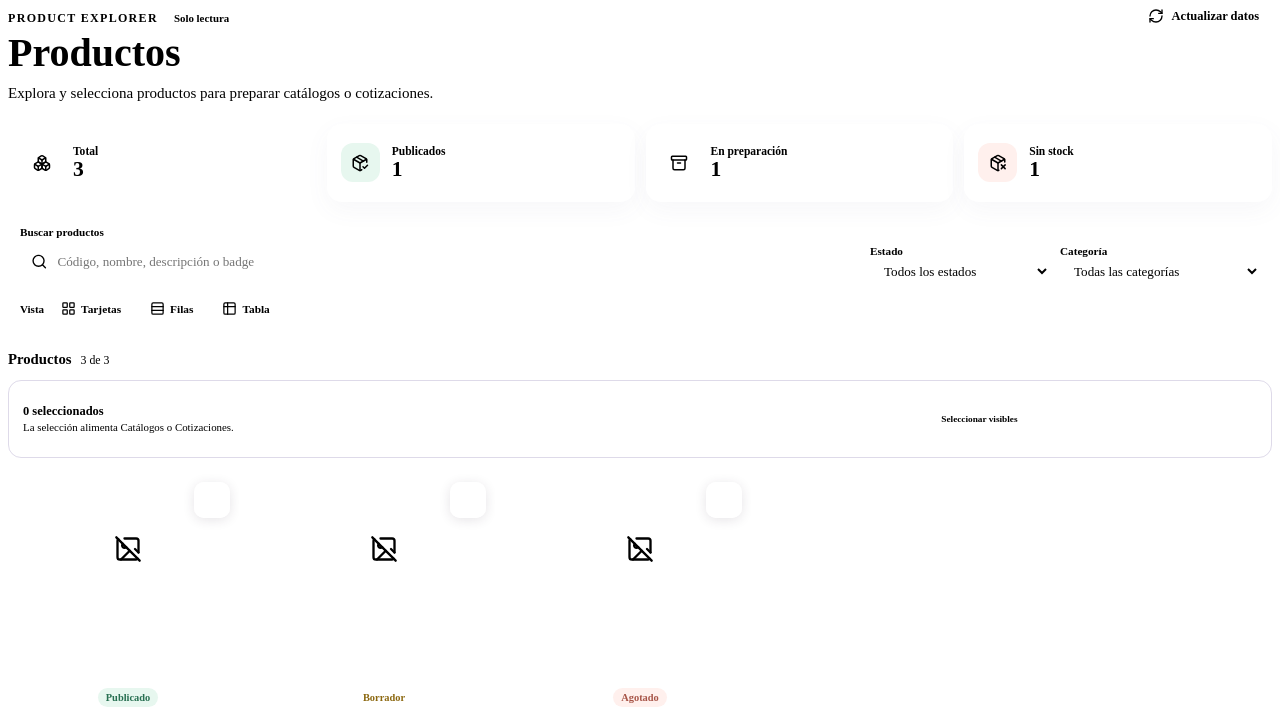
ProductExplorer › convierte las métricas en filtros rápidos removibles
Click the button "En preparación 1" at (749, 151), box [646, 124, 953, 202]
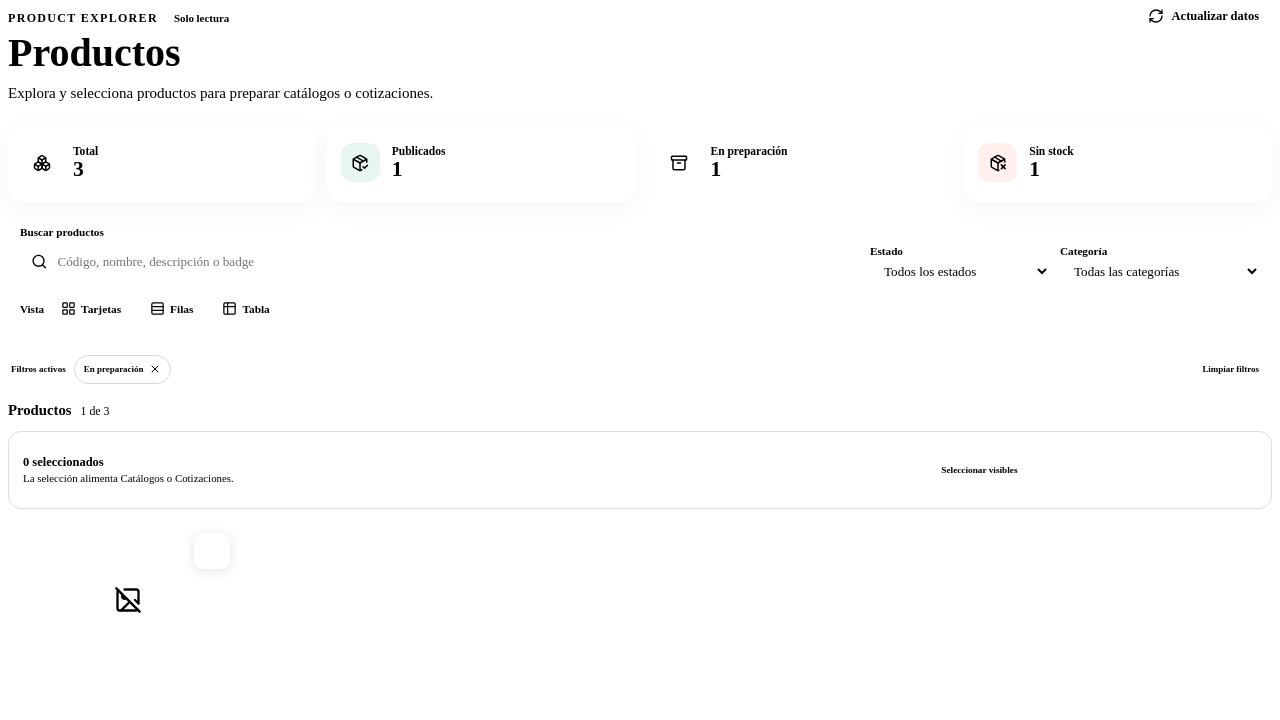
Check: the button with aria-label "Quitar filtro En preparación" is shown
Click the button with aria-label "Quitar filtro En preparación" at (122, 369), box [74, 355, 170, 384]
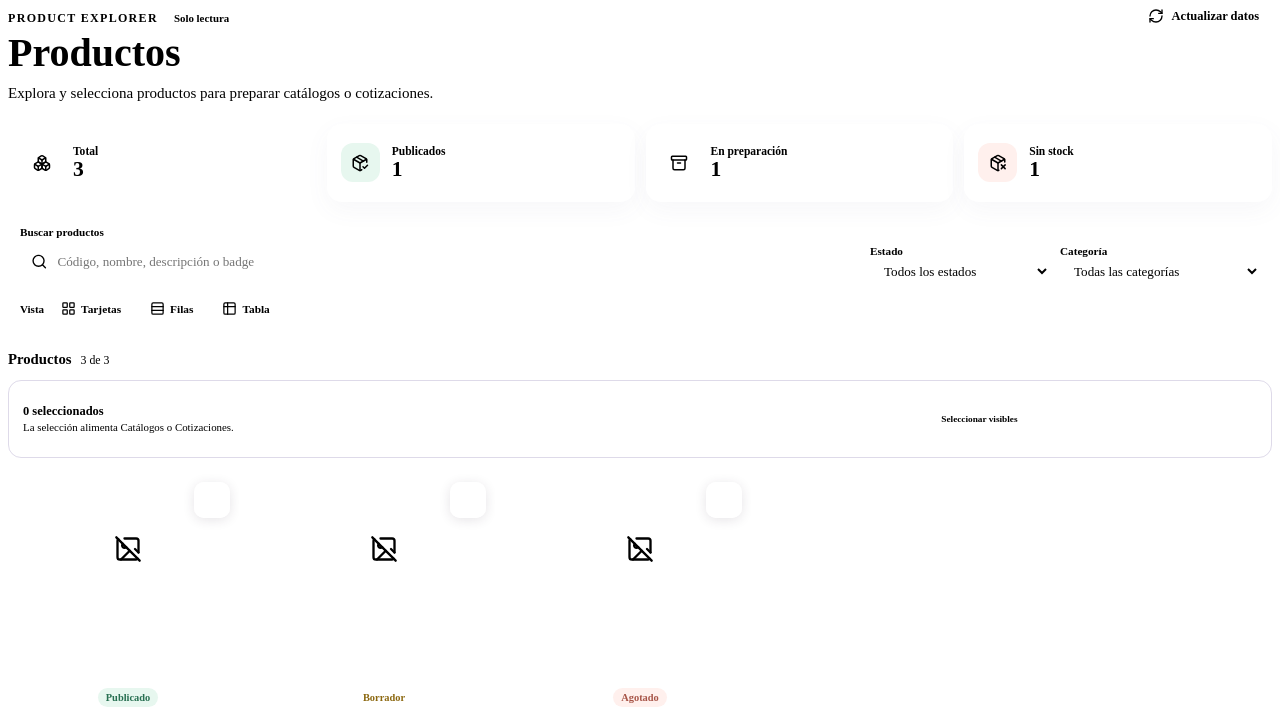
Click the button "Sin stock 1" at (998, 163), box [964, 124, 1272, 202]
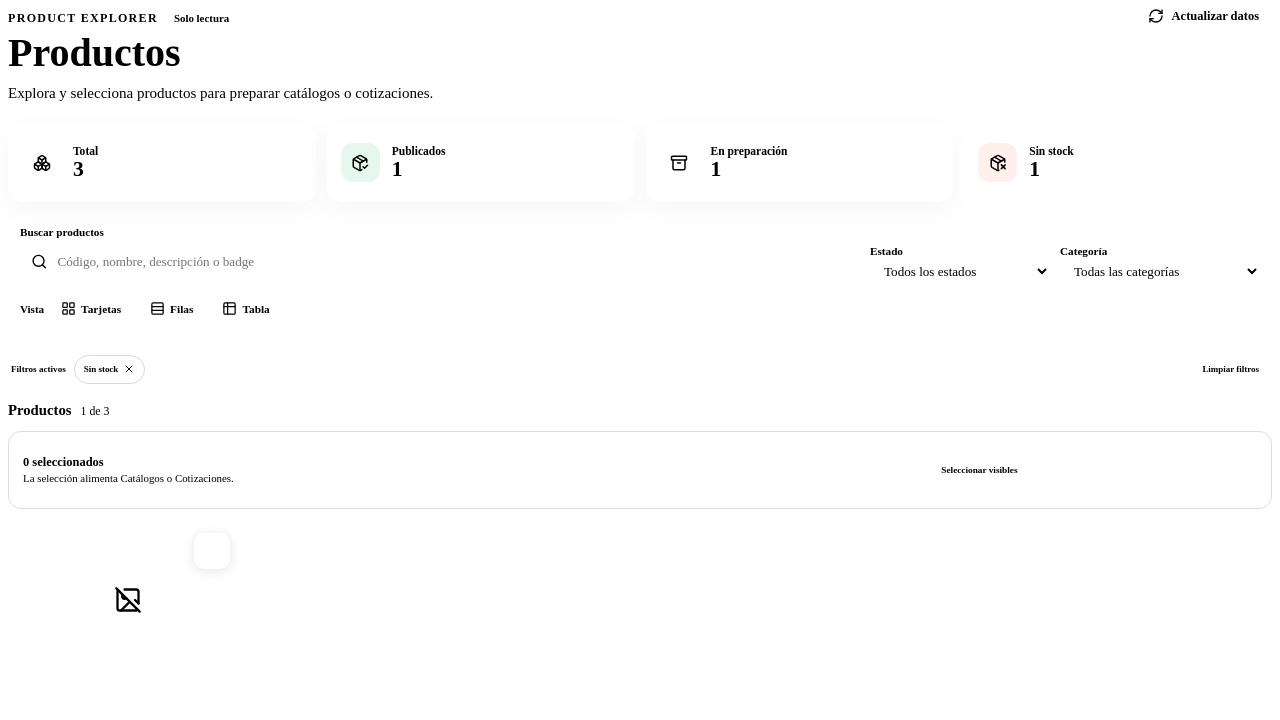
Check: the text "1 de 3" is shown, box [80, 404, 109, 419]
